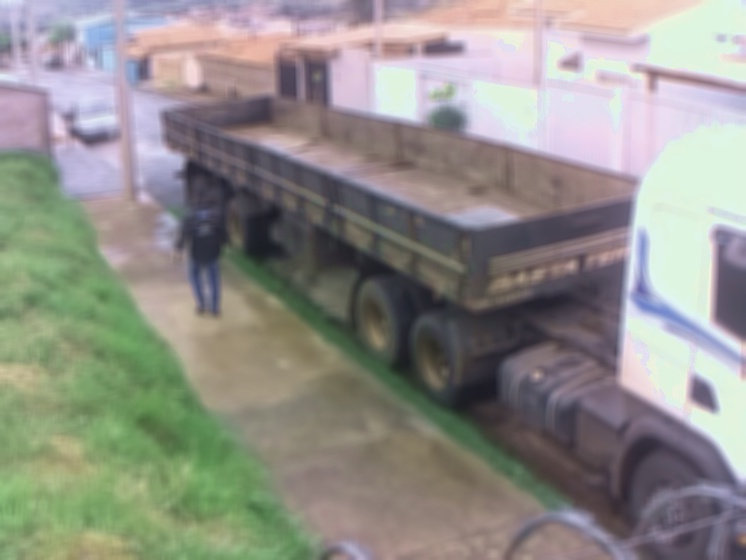person: (171, 186, 234, 321)
